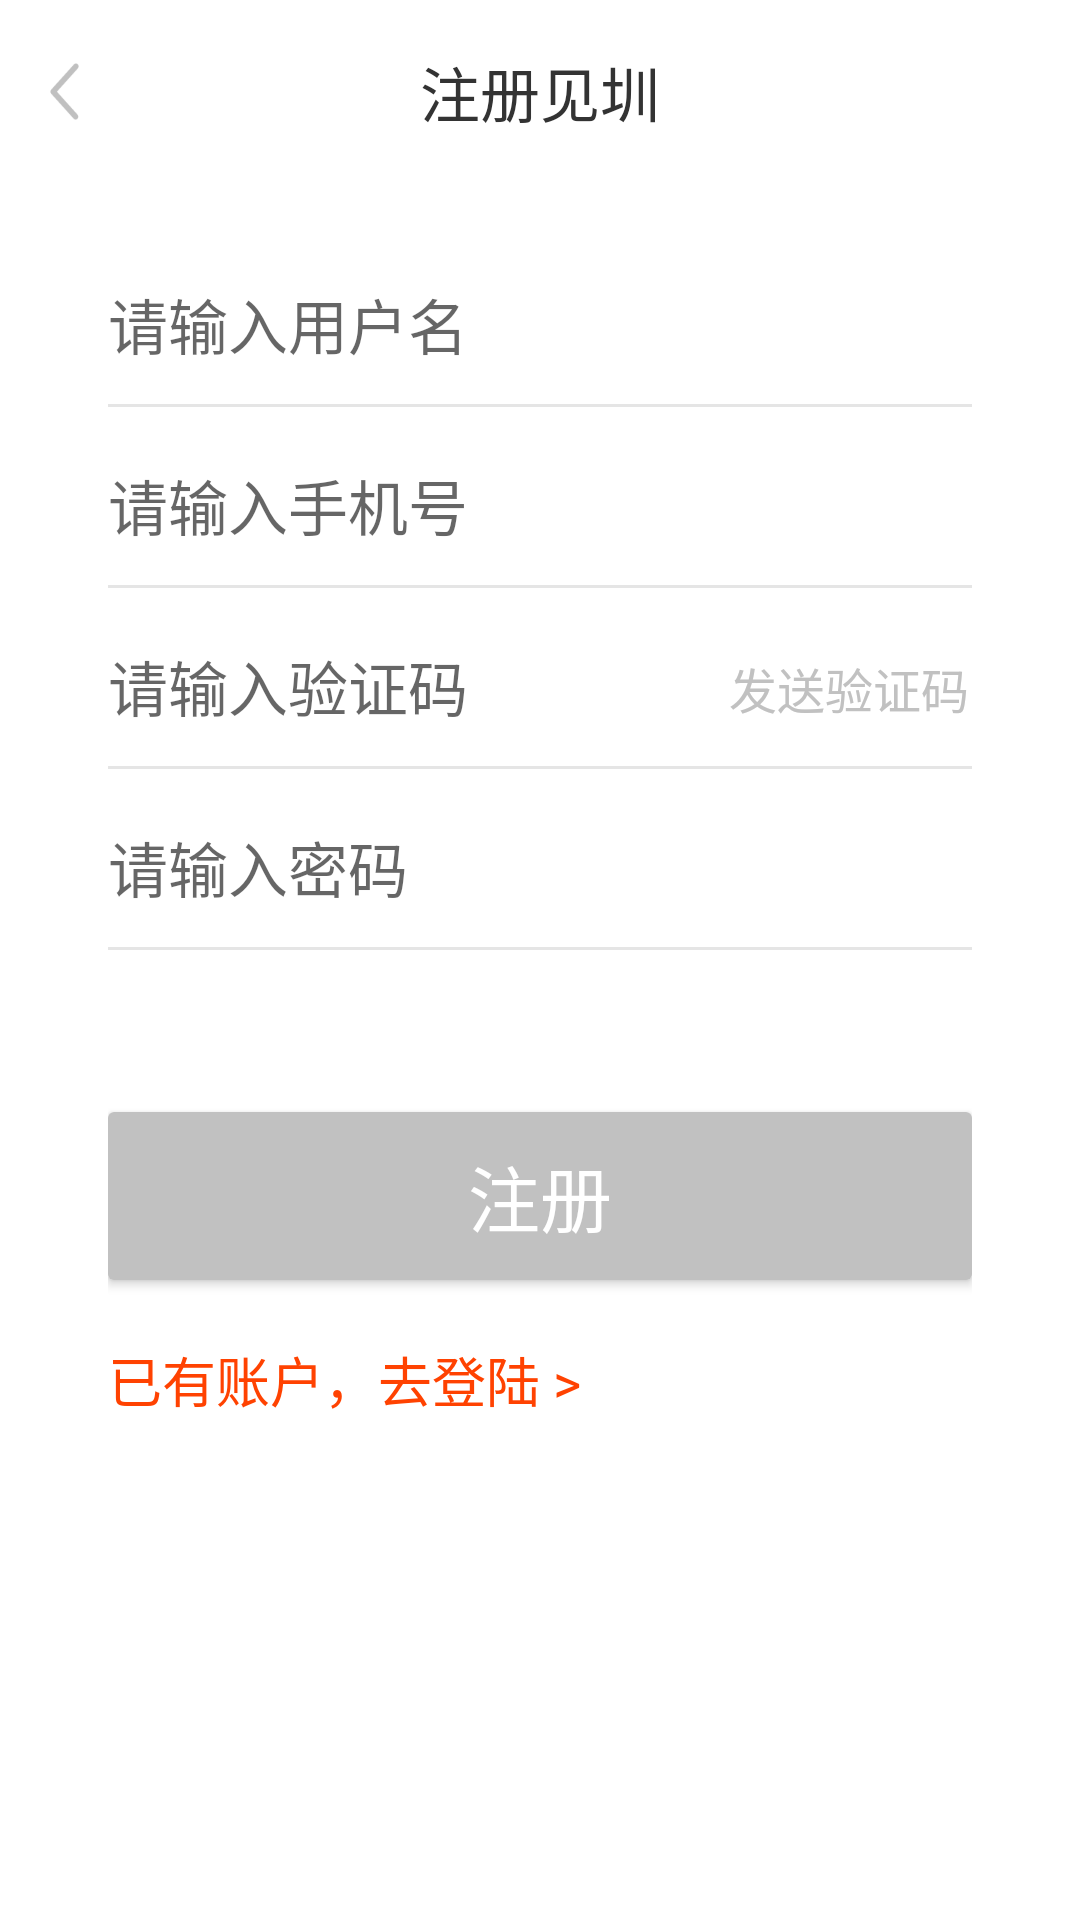

Screen size 1080 × 1920. Icon name, then its center in pixels as (x,y):
arrow: (64,91)
